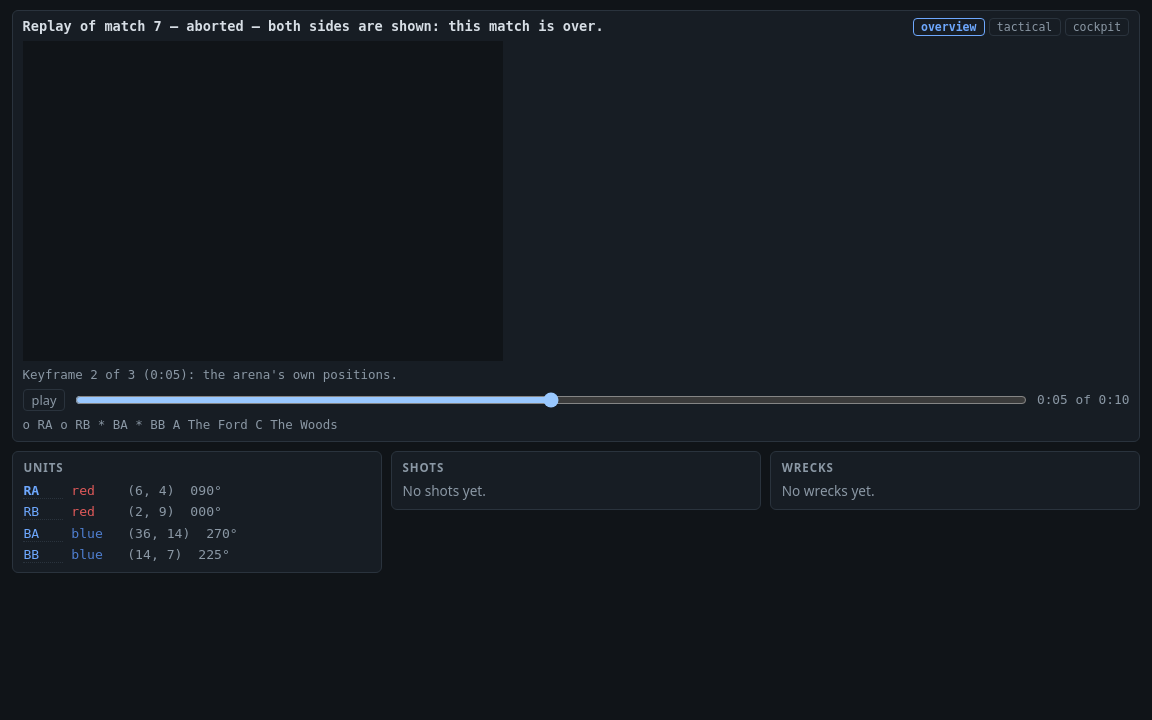
Test: ReplayScreen mounted › says it is drawing between keyframes off a keyframe, and lists what happened by then
Set the slider named "arena time" to "7500" at (785, 400), box [76,392,1027,408]
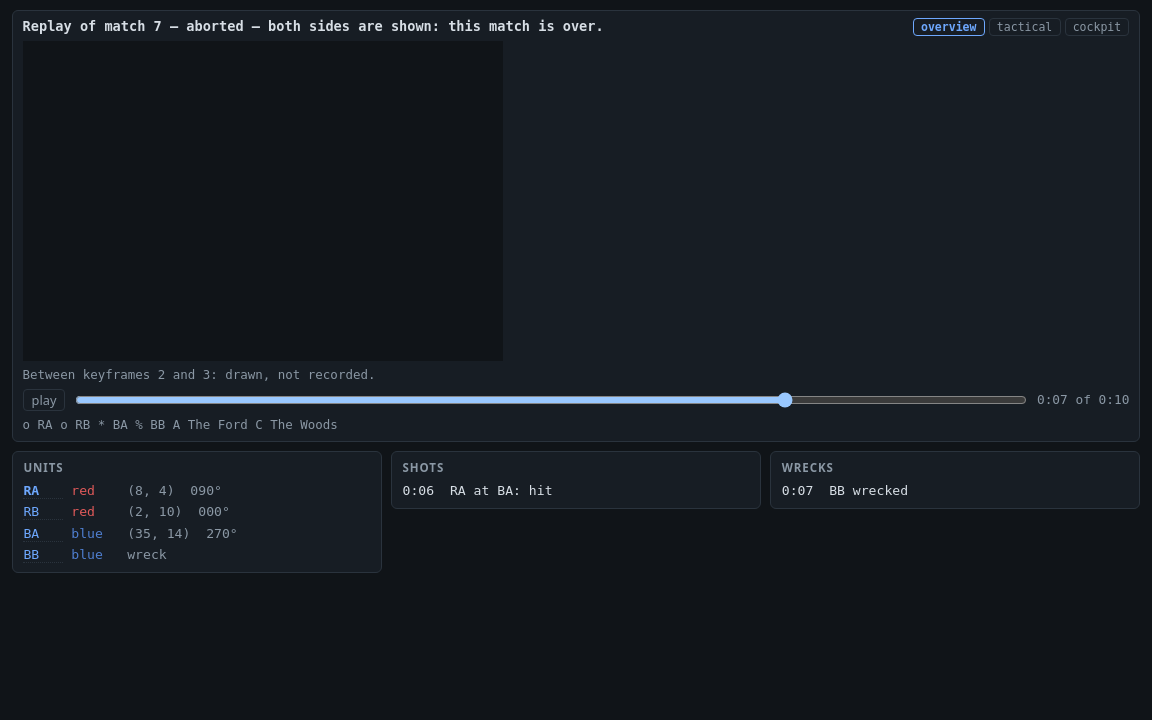
Expected: the text "Between keyframes 2 and 3: drawn, not recorded." is shown, [23,367,375,382]
Expected: the text "0:06 RA at BA: hit" is shown, [403,483,553,498]
Expected: the text "0:07 BB wrecked" is shown, [782,483,908,498]
